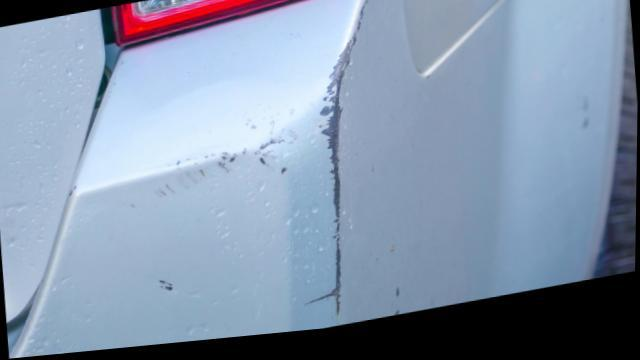scratch: (147, 0, 371, 332)
